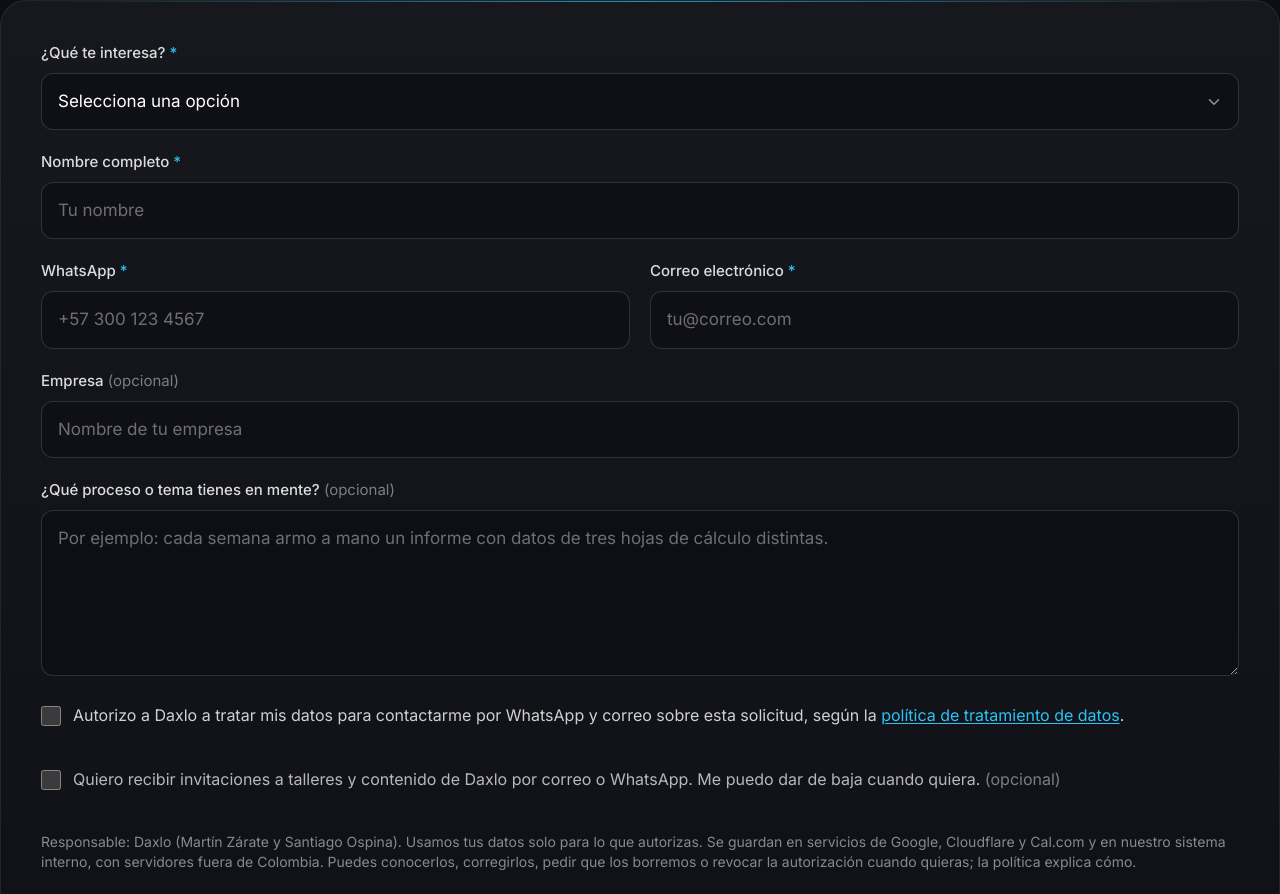
Test: formulario: validación en el navegador › correo con formato inválido (martina@ferreteria): pide revisarlo y lleva el foco al correo
Select "Coaching 1 a 1 para mí" in the dropdown labelled "¿Qué te interesa?": [640, 102] box [41,73,1239,130]
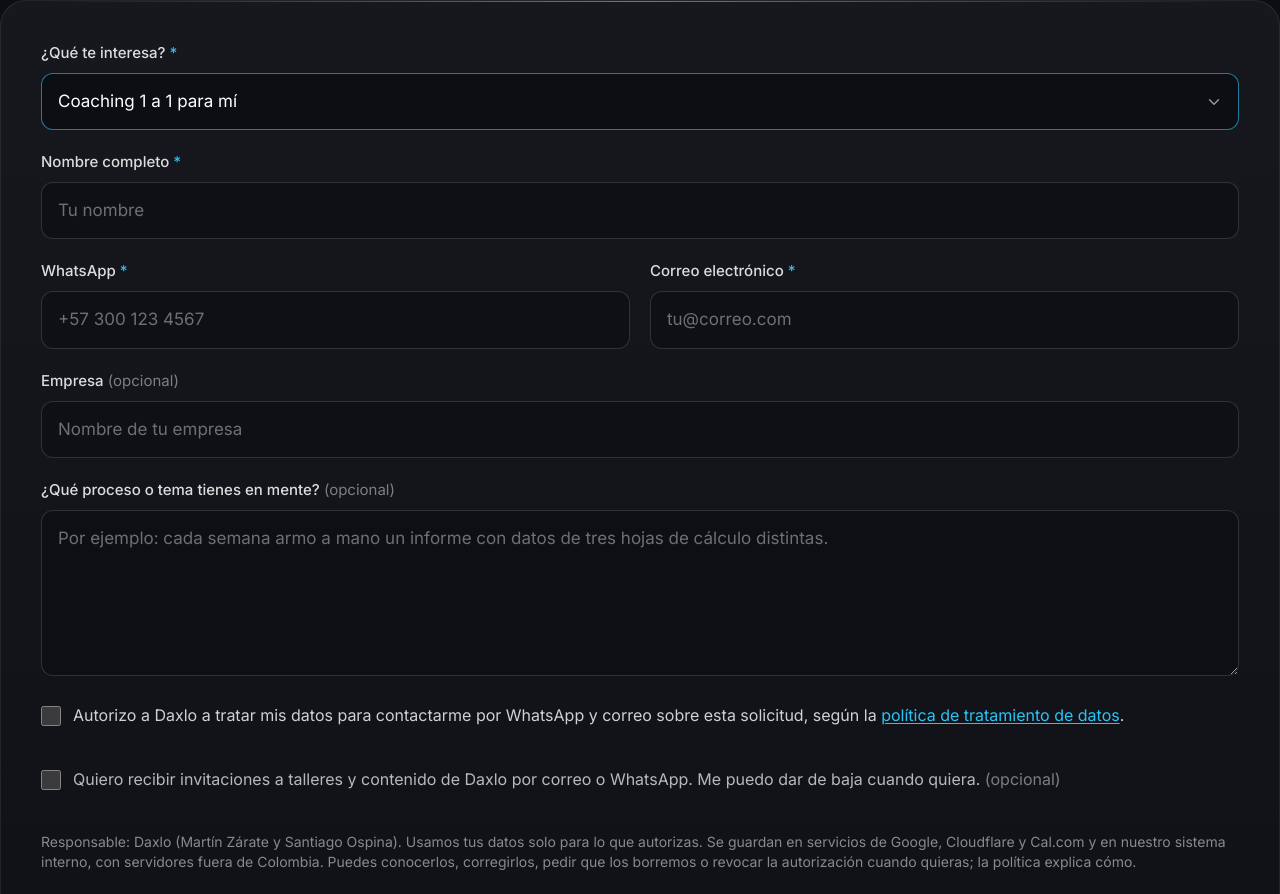
In the field labelled "Nombre completo": [640, 211] box [41,182,1239,239], type "Ana"
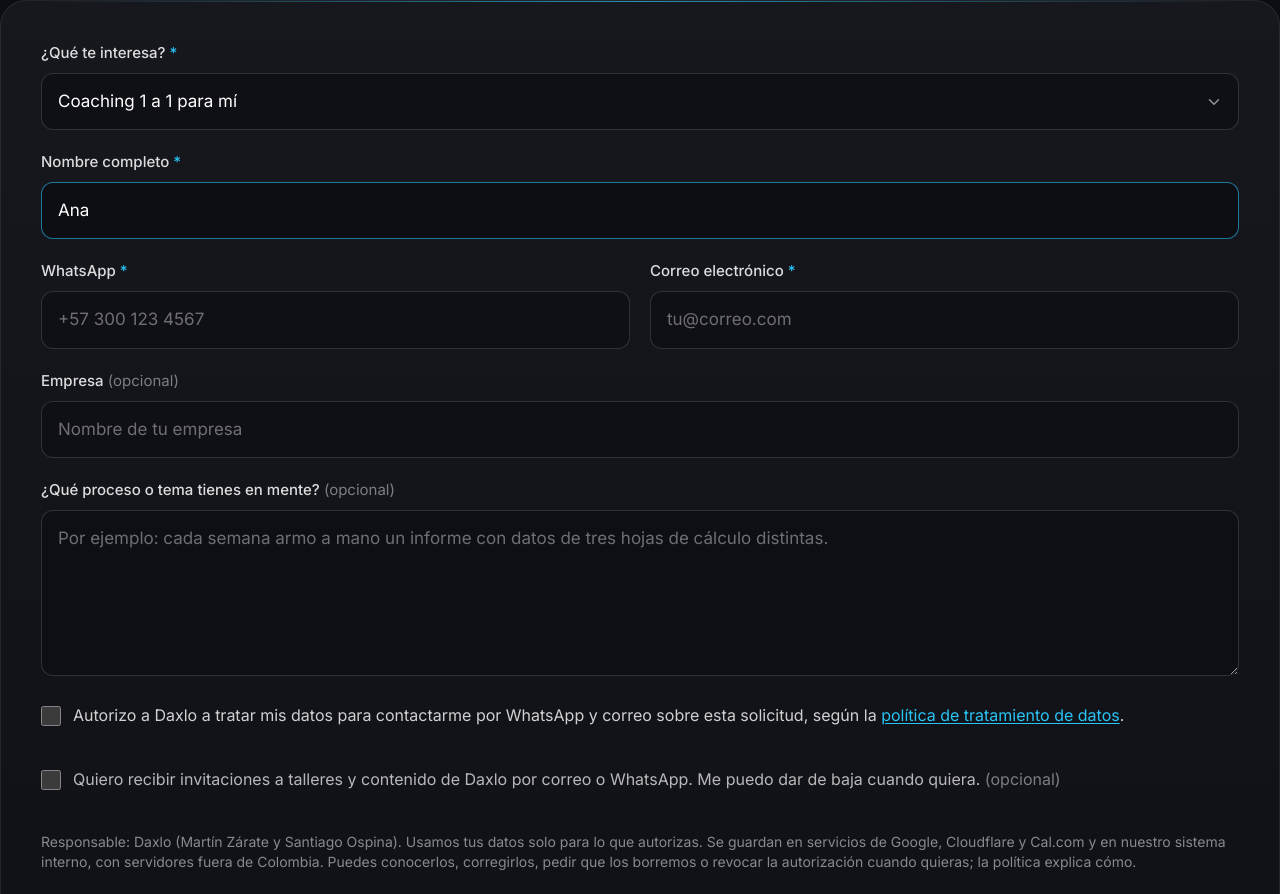
In the field labelled "WhatsApp *": [336, 320] box [41,291,630,349], type "3001234567"
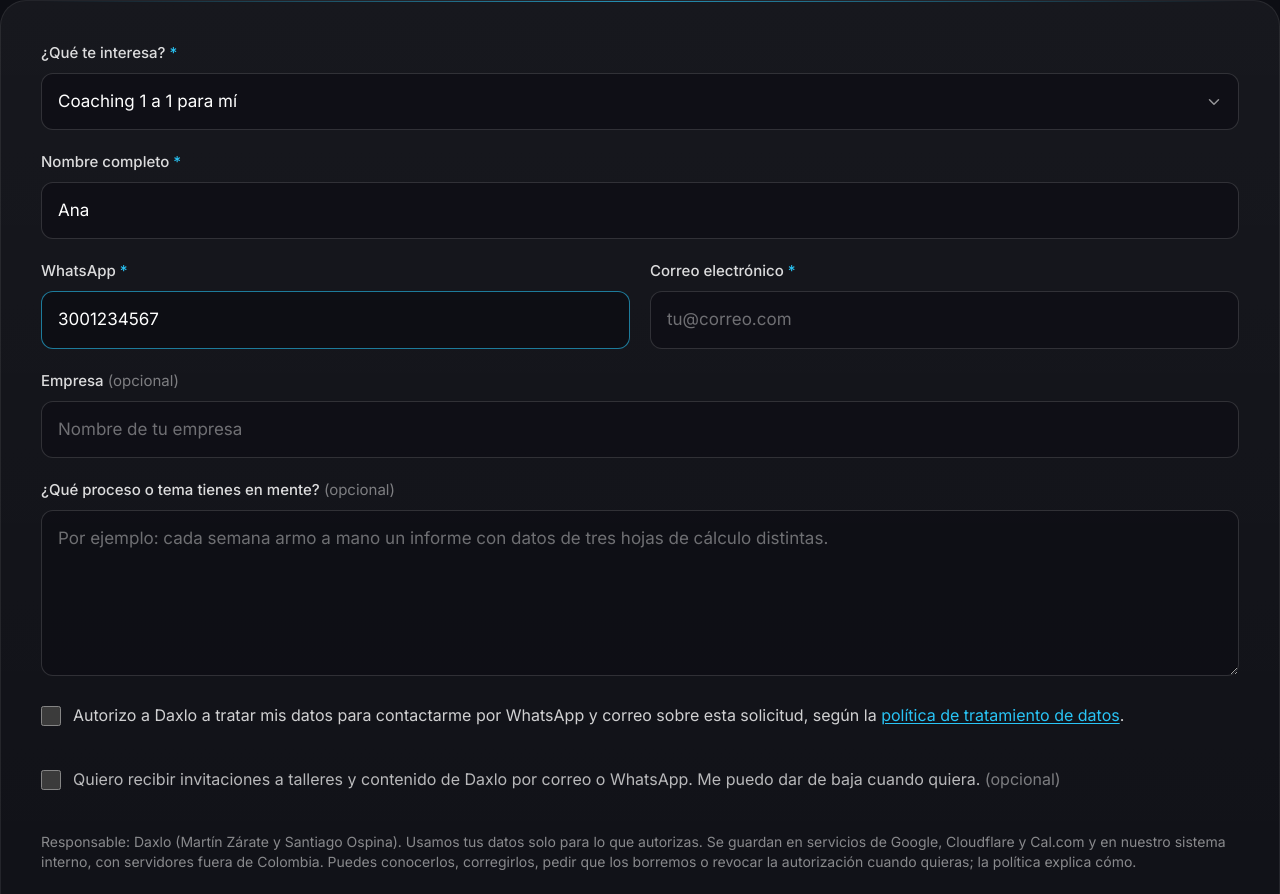
In the field labelled "Correo electrónico *": [944, 320] box [650,291,1239,349], type "martina@ferreteria"
(page scrolled)
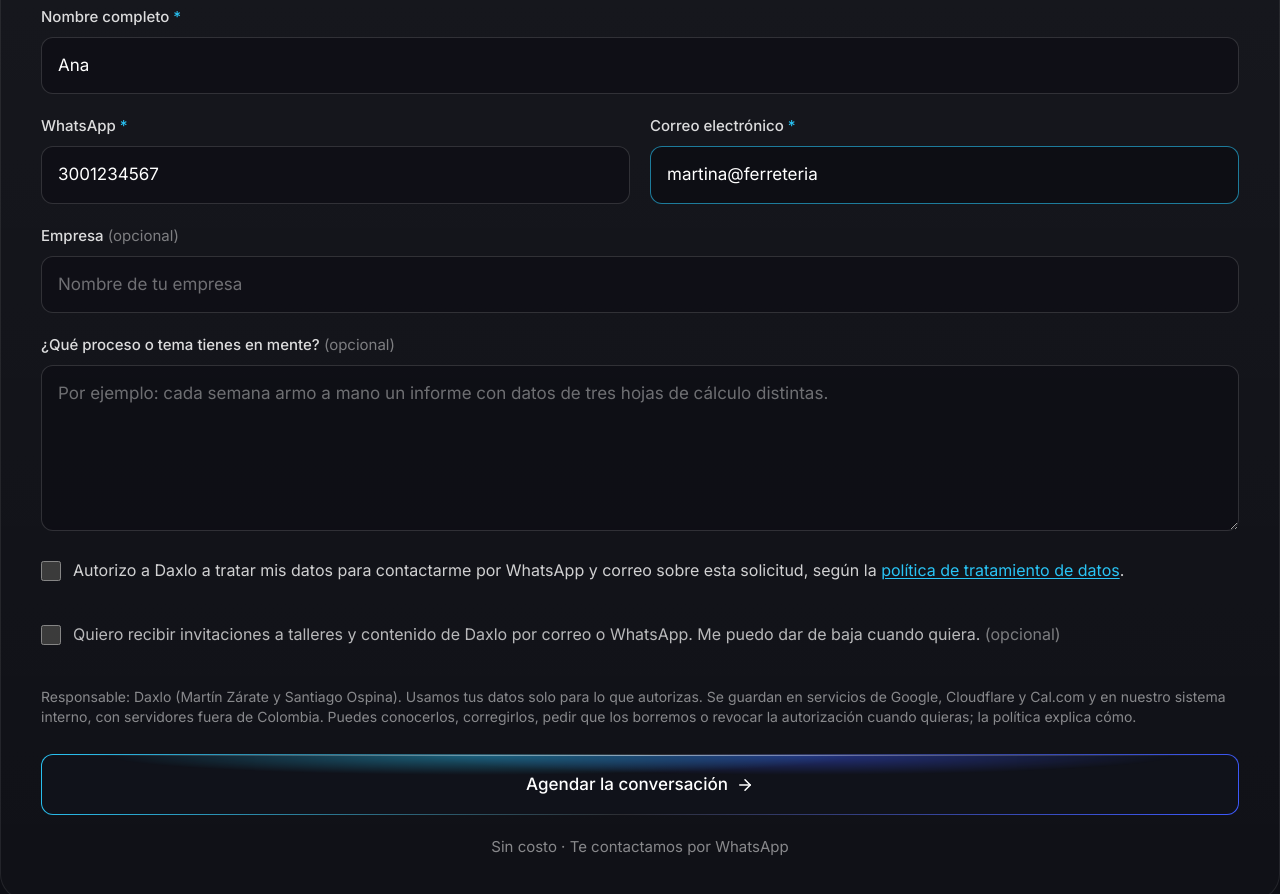
Click the button "Agendar la conversación": [640, 785] box [41,754,1239,815]
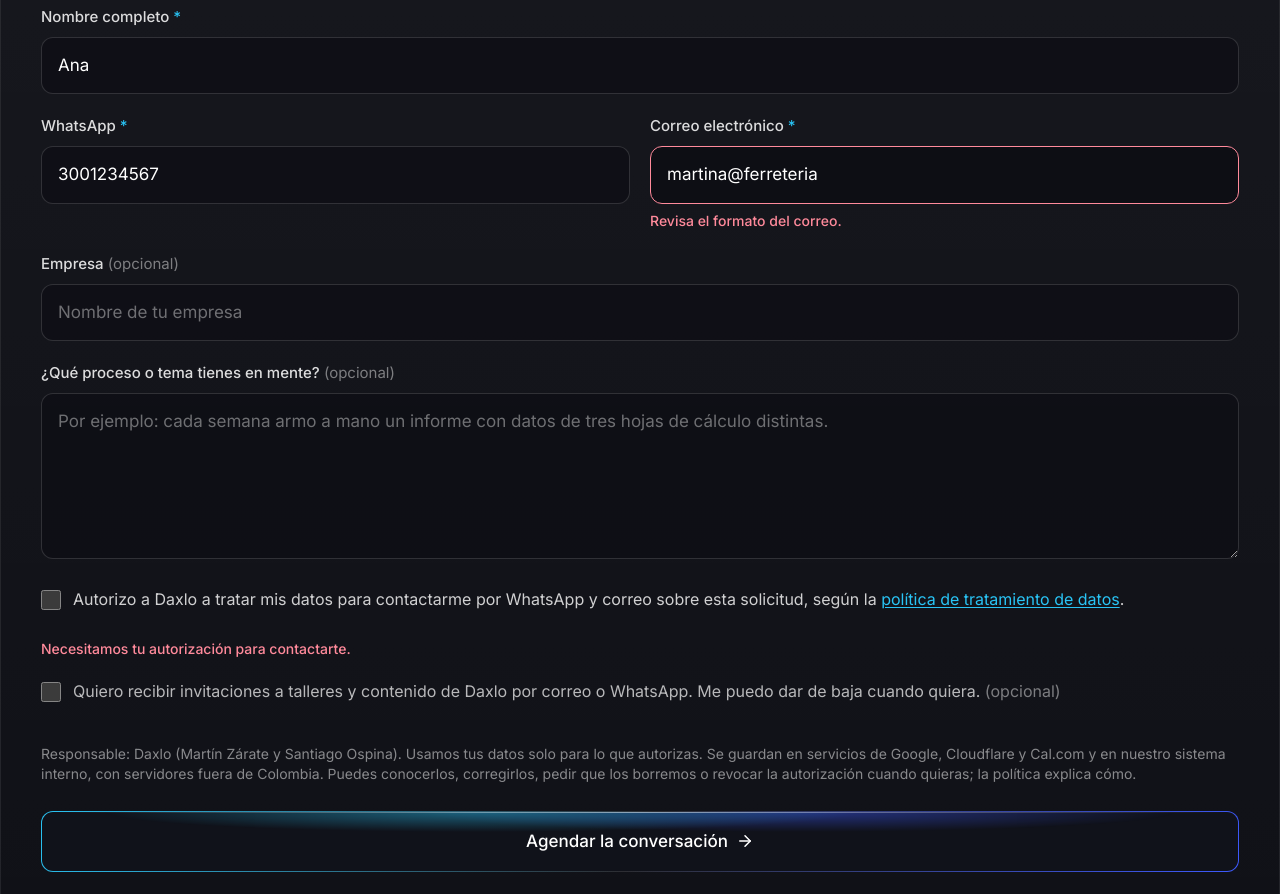
Result: the text "Revisa el formato del correo." is shown at [650,212,842,229]
